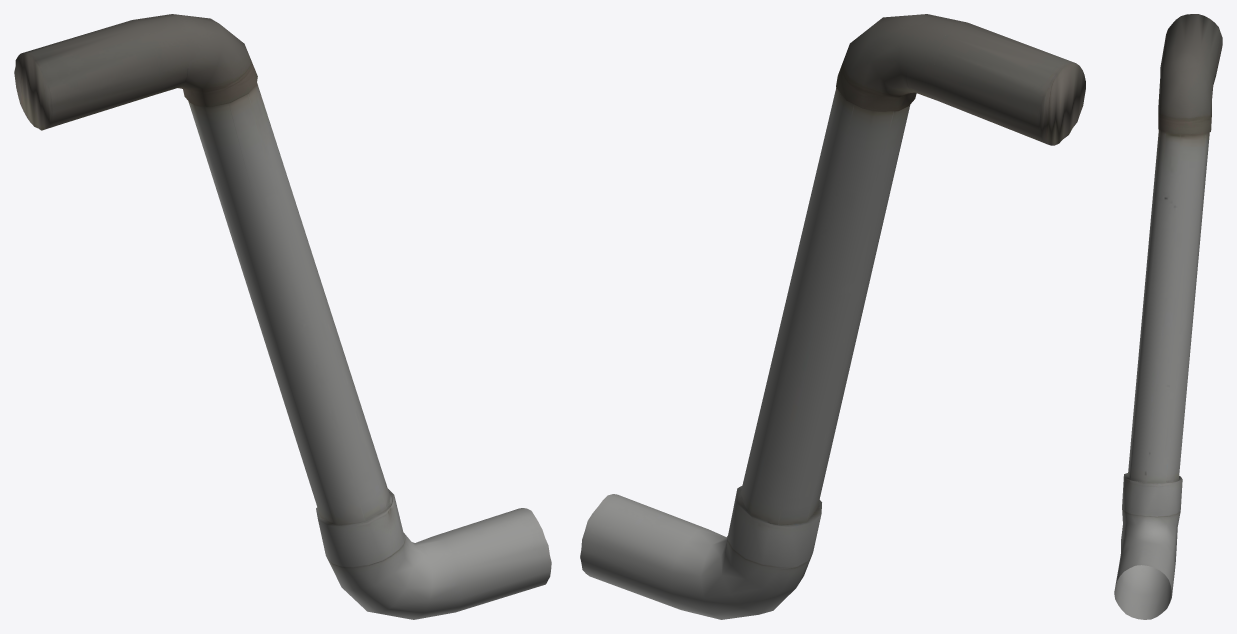
File: Pipe.fbx
3 renders of one model, left to right at view 1: azimuth 30°, elevation 25°; view 2: azimuth 150°, elevation 25°; view 3: azimuth 270°, elevation 25°, orthographic. The views are drawn at different scales.
Visible parts, largest first — view 1: tripo_node_855842e5-49b0-4bdd-bf90-bdbbadd5d18e; view 2: tripo_node_855842e5-49b0-4bdd-bf90-bdbbadd5d18e; view 3: tripo_node_855842e5-49b0-4bdd-bf90-bdbbadd5d18e.
Part boxes in pixels (x1=…): tripo_node_855842e5-49b0-4bdd-bf90-bdbbadd5d18e: x1=14, y1=14, x2=551, y2=619; tripo_node_855842e5-49b0-4bdd-bf90-bdbbadd5d18e: x1=580, y1=14, x2=1085, y2=619; tripo_node_855842e5-49b0-4bdd-bf90-bdbbadd5d18e: x1=1114, y1=14, x2=1222, y2=619.
Size of the model in its own units: 77.93 by 99.8 by 21.68.
1 material, 1 textured.
